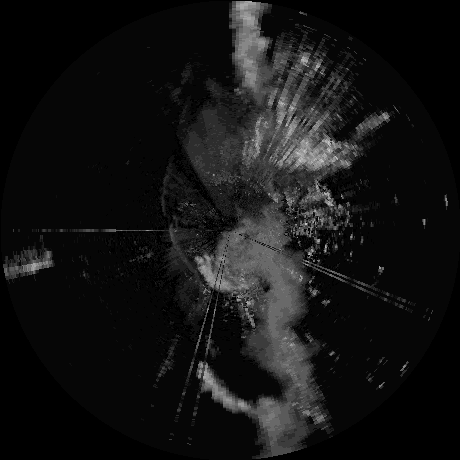frontgust: (167, 228, 204, 288), (159, 173, 170, 217)
